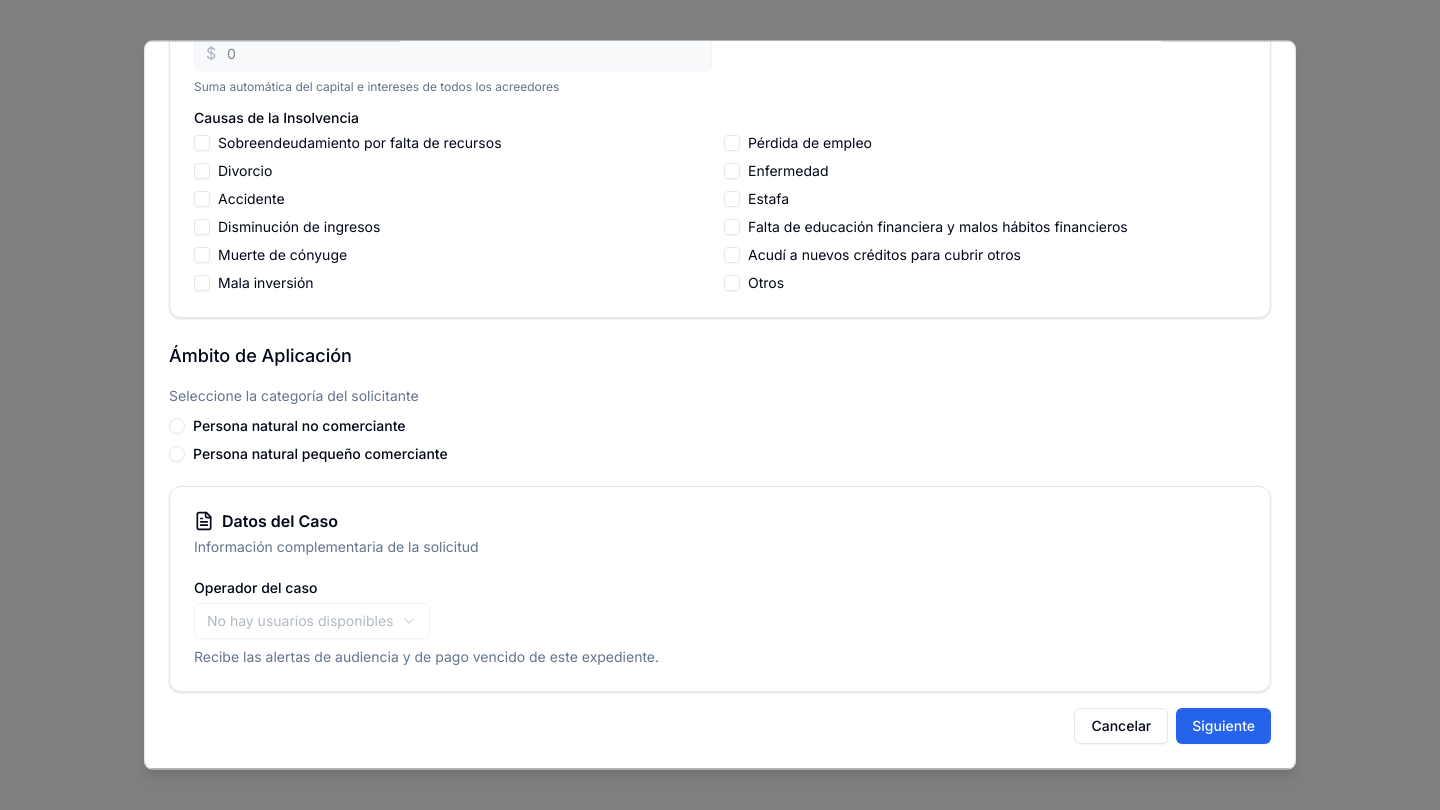
Test case: CreateCaseDialog — "Siguiente" no envía el formulario › CONCILIATION: recorrer el wizard con "Siguiente" llega a la última pestaña sin toast
(page scrolled)
Click the button "Siguiente" at (1224, 726), box left=1176, top=708, right=1271, bottom=744
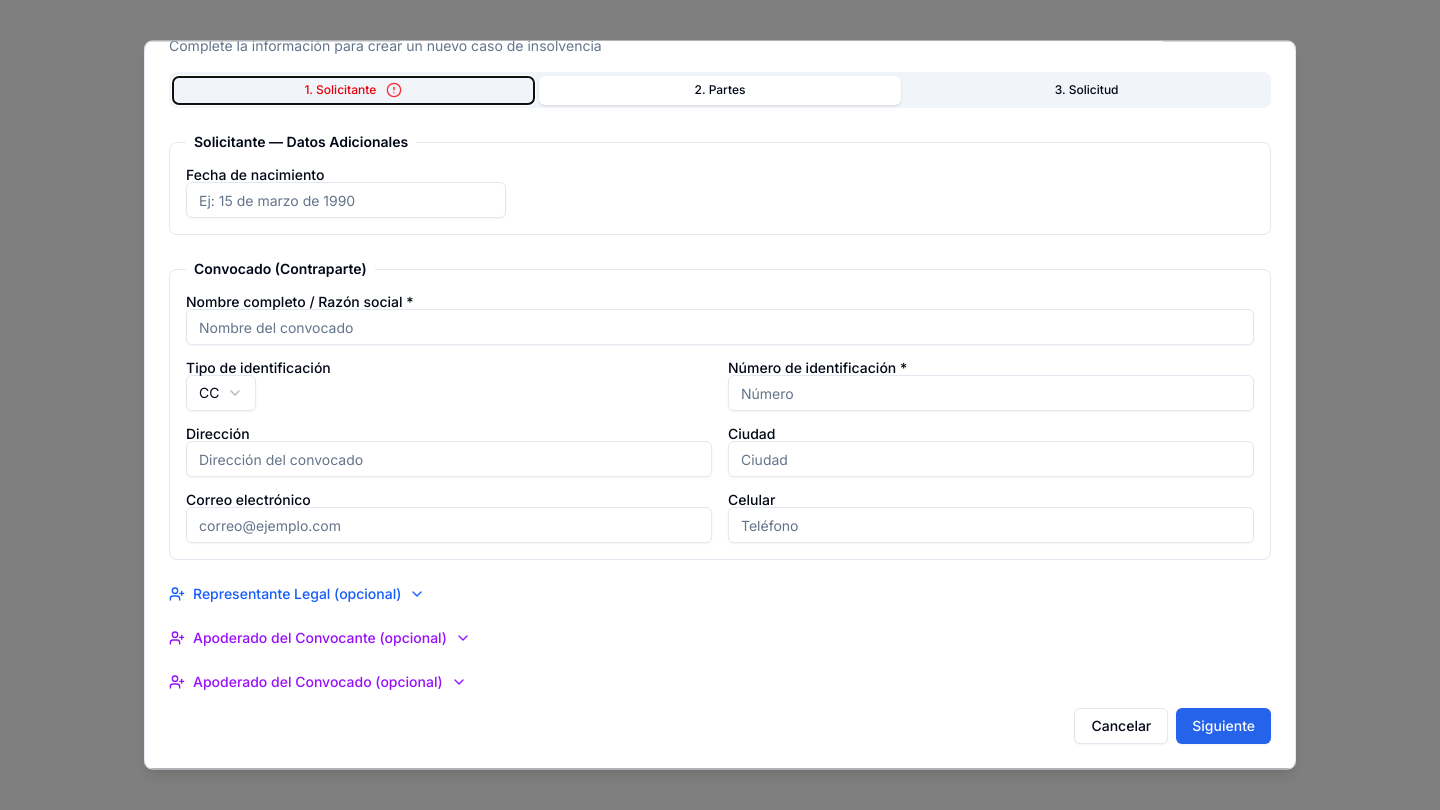
Click the button "Siguiente" at (1224, 726), box left=1176, top=708, right=1271, bottom=744
(page scrolled)
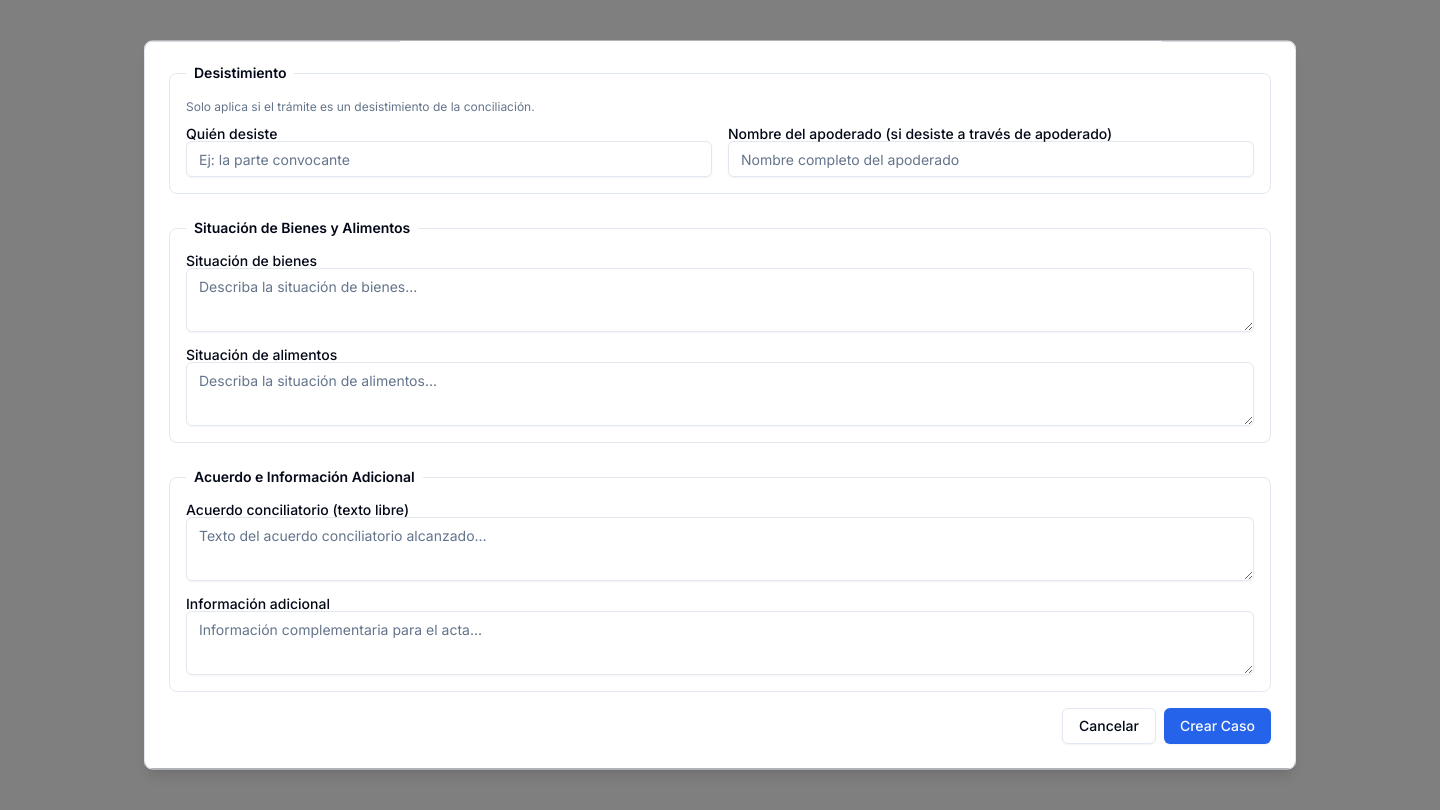
Check: the button "Crear Caso" is shown, box left=1164, top=708, right=1271, bottom=744
